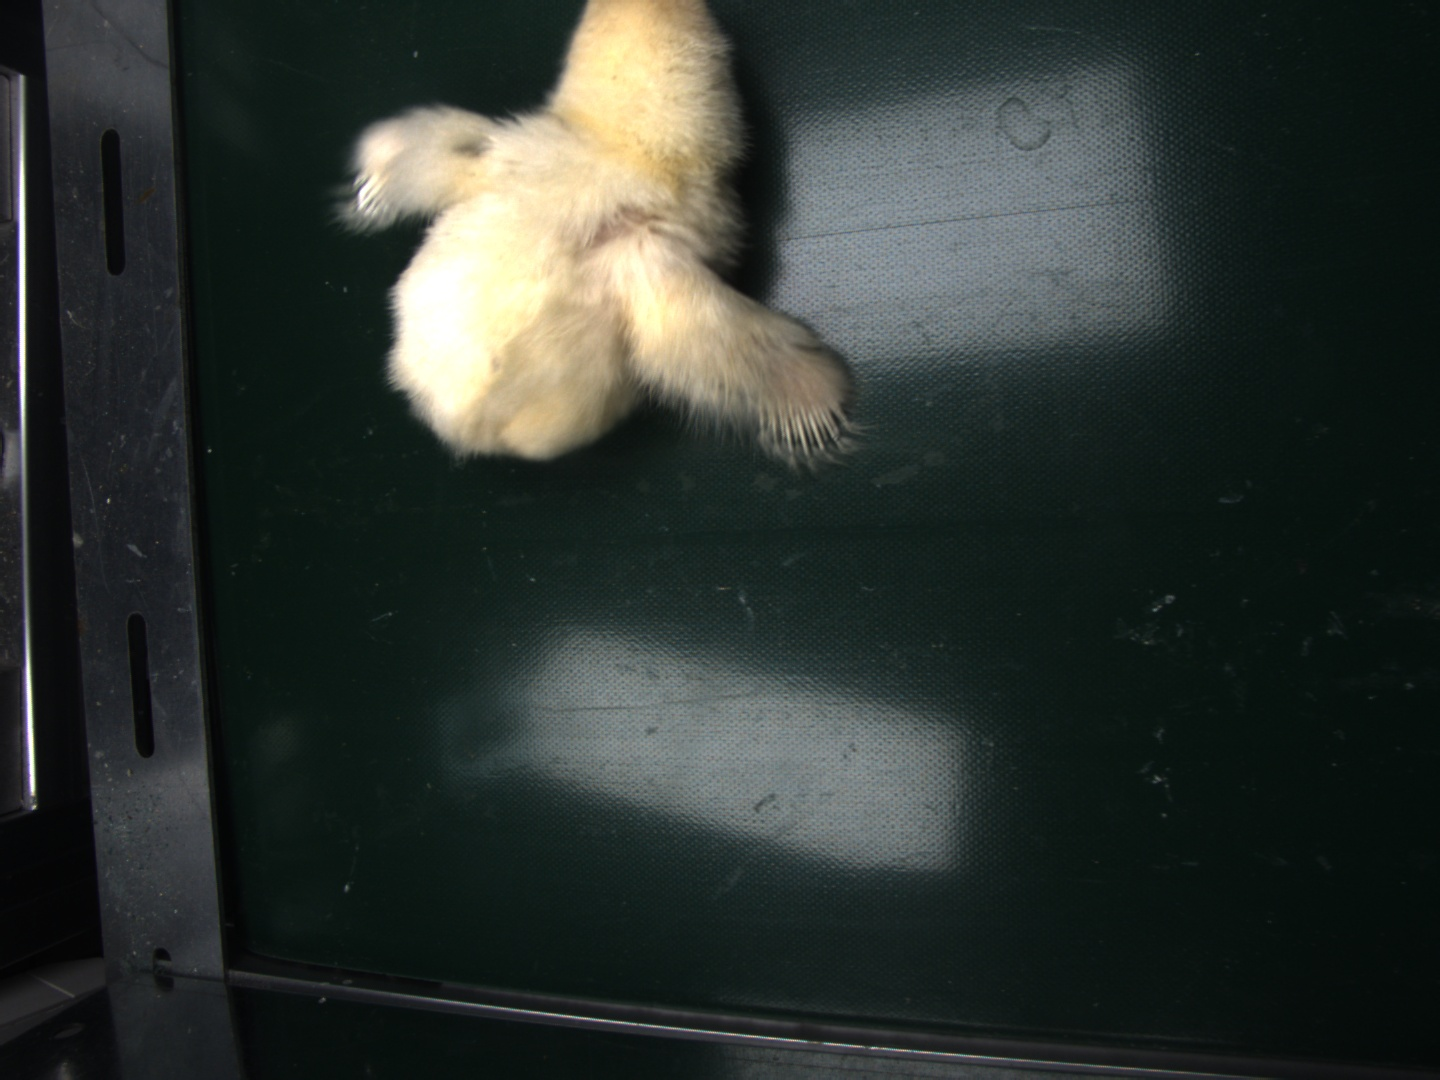male: (764, 398, 844, 459)
